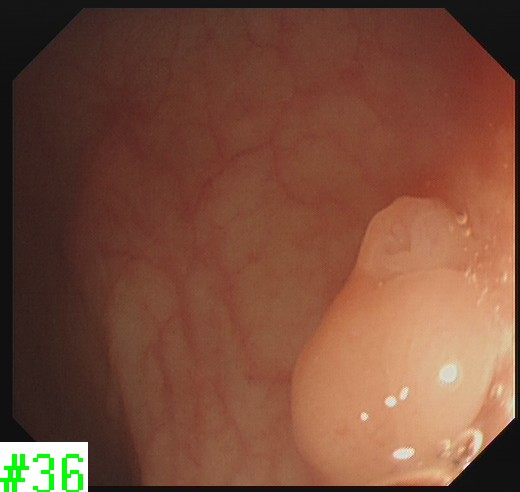adenoma: (285, 192, 499, 485)
